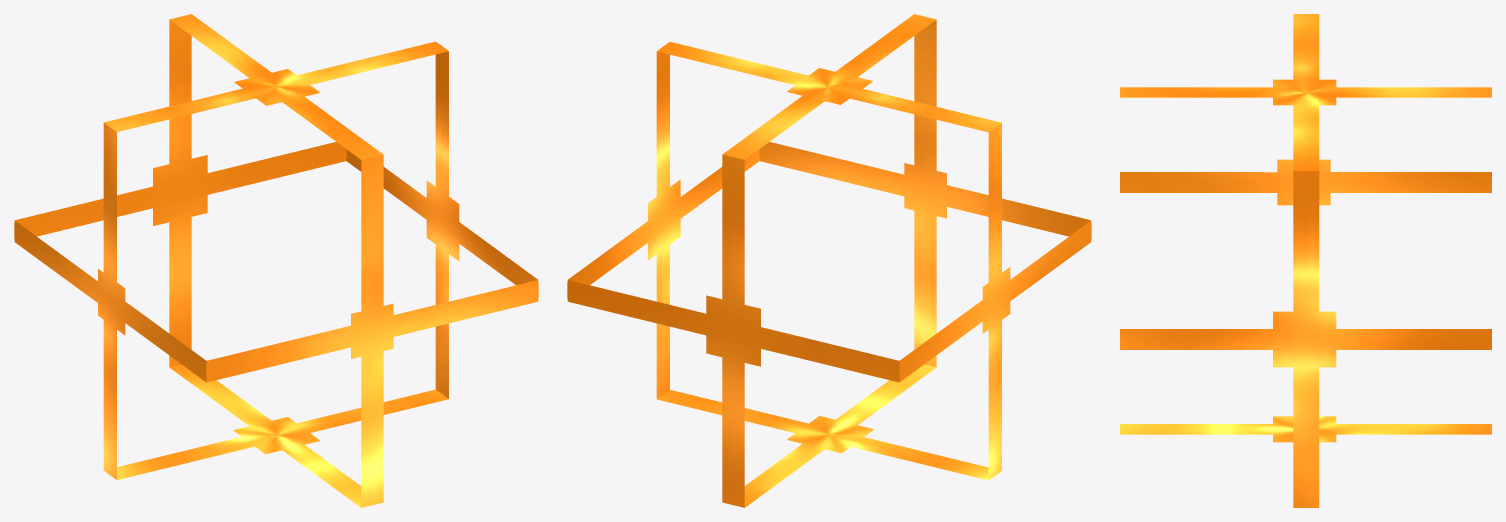
The model's file is inner.fbx.
3 views of the same model, side by side, from view 1: azimuth 30°, elevation 25°; view 2: azimuth 150°, elevation 25°; view 3: azimuth 270°, elevation 25° (orthographic). The views are drawn at different scales.
Visible parts, largest first — view 1: inner; view 2: inner; view 3: inner.
Boxes of the visible parts, x1,y1,x2,y2 form: inner: (14,14,538,507); inner: (567,14,1091,507); inner: (1120,14,1491,507).
Size of the model in its own units: 233 by 233 by 233.
